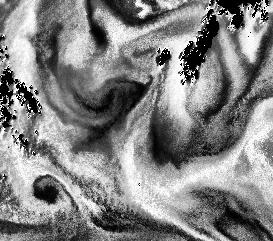CE: (12, 159, 71, 218)
